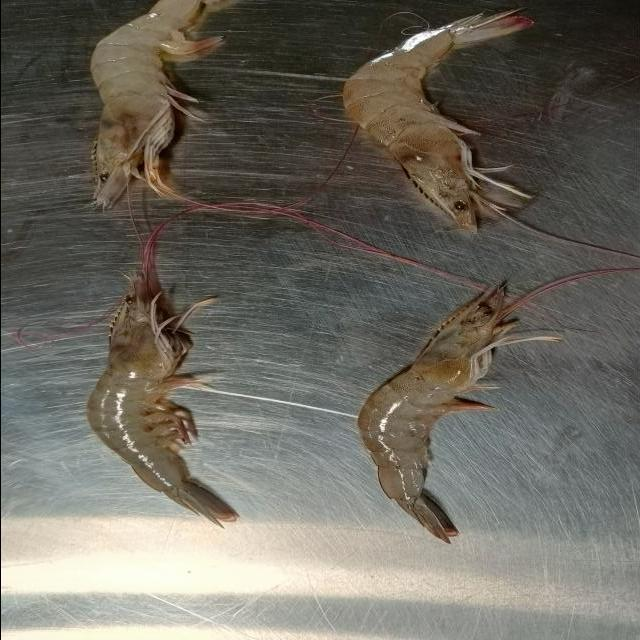shrimp: (340, 10, 537, 235), (86, 249, 243, 523), (357, 284, 509, 545), (88, 0, 205, 210)
